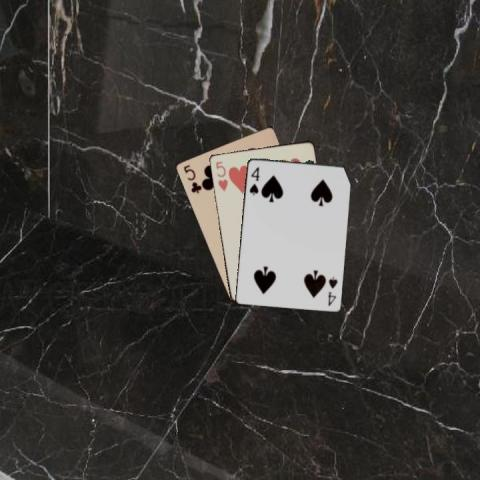4s: (246, 164, 261, 195), (325, 273, 338, 307)
5c: (180, 161, 202, 195)
5h: (212, 158, 228, 193)
